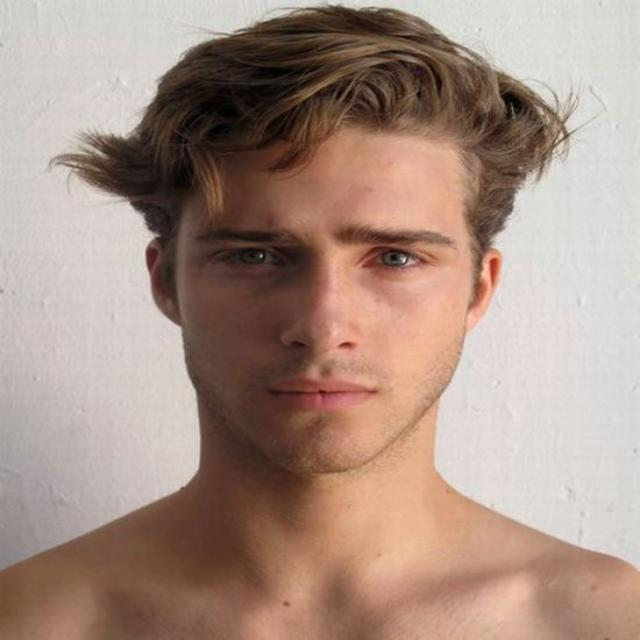earlobe: (162, 299, 184, 328), (464, 303, 484, 333)
eye: (364, 249, 426, 270), (222, 248, 284, 269)
nose: (282, 341, 361, 372)
wholeear: (143, 236, 184, 328), (465, 248, 504, 334)
